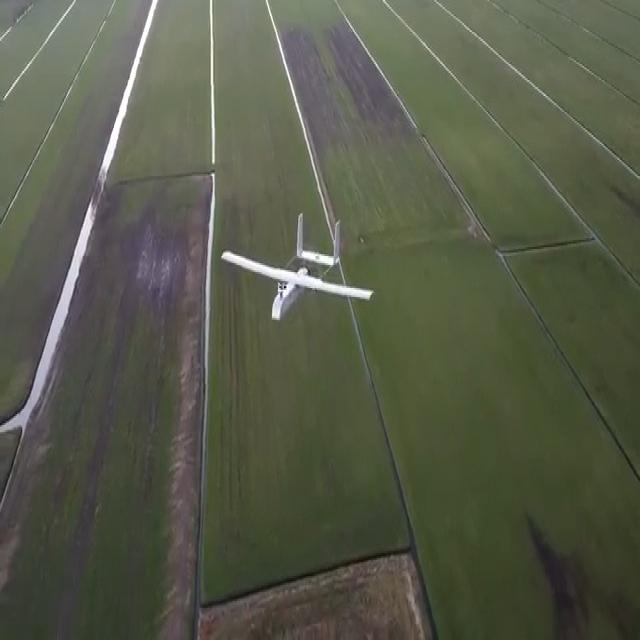drones: (217, 204, 376, 330)
